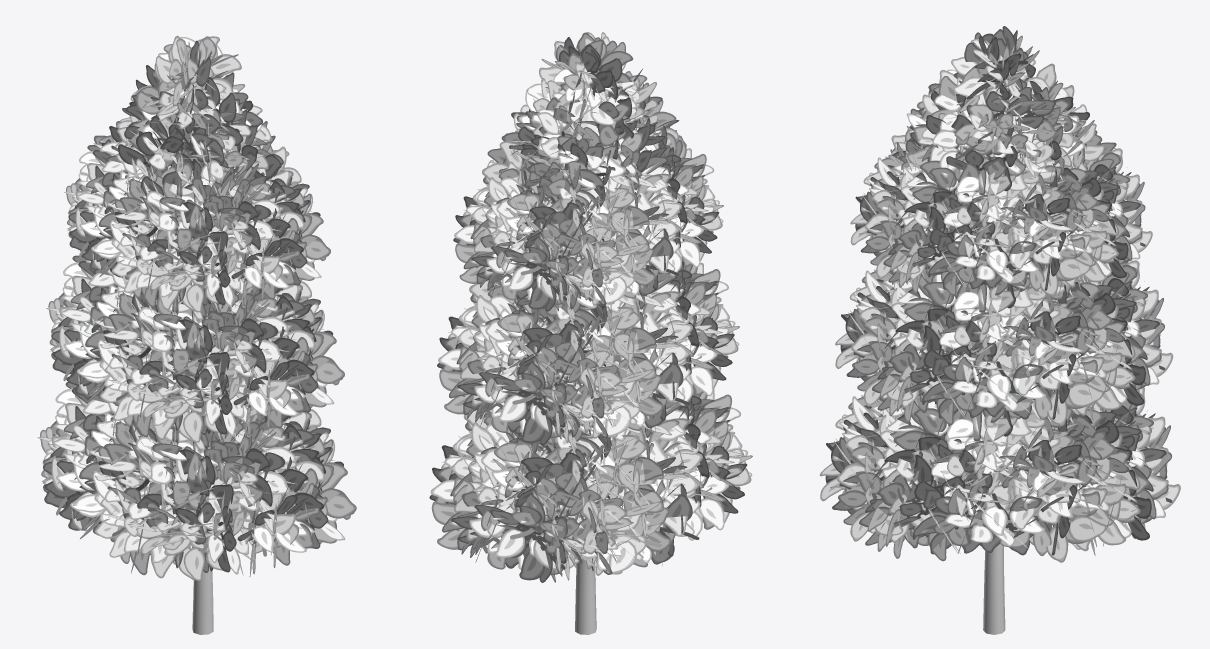
The model's file is SM_Tree_Remade_01.fbx.
3 views of the same model, side by side, from view 1: azimuth 30°, elevation 25°; view 2: azimuth 150°, elevation 25°; view 3: azimuth 270°, elevation 25° (orthographic).
Visible parts, largest first — view 1: leaf_grayscale.003, tree.001; view 2: leaf_grayscale.003, tree.001; view 3: leaf_grayscale.003, tree.001.
Part boxes in pixels (x1=…): leaf_grayscale.003: x1=37, y1=35, x2=356, y2=580; tree.001: x1=192, y1=566, x2=213, y2=634; leaf_grayscale.003: x1=429, y1=32, x2=752, y2=582; tree.001: x1=575, y1=559, x2=596, y2=634; leaf_grayscale.003: x1=819, y1=26, x2=1180, y2=562; tree.001: x1=983, y1=544, x2=1005, y2=634.
Size of the model in its own units: 299 by 594 by 348.
